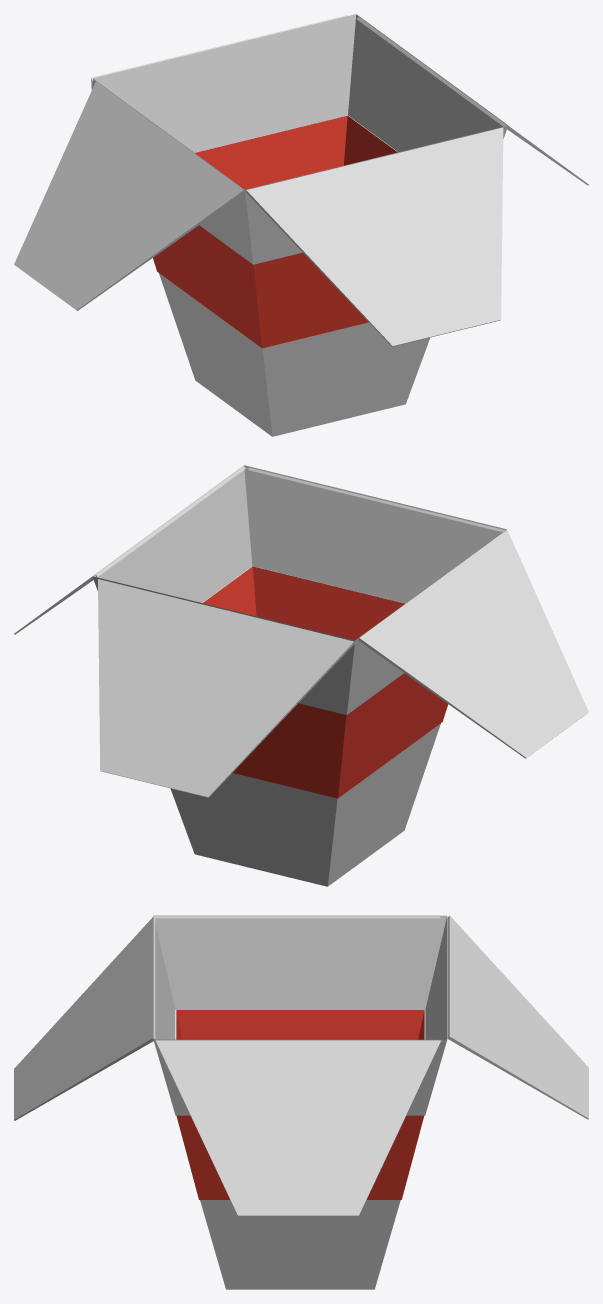
File: TakeoutBox.fbx
3 renders of one model, top to bottom at view 1: azimuth 30°, elevation 25°; view 2: azimuth 150°, elevation 25°; view 3: azimuth 270°, elevation 25°, orthographic. The views are drawn at different scales.
Visible parts, largest first — view 1: Cube, Cube.007, Cube.005, Cube.009, Cube.008; view 2: Cube, Cube.002, Cube.005, Cube.009, Cube.008, Cube.007; view 3: Cube, Cube.008, Cube.002, Cube.007, Cube.009, Cube.005.
Boxes of the visible parts, x1,y1,x2,y2 form: Cube: [93, 14, 508, 436]; Cube.007: [246, 127, 503, 346]; Cube.005: [14, 81, 245, 310]; Cube.009: [153, 115, 397, 348]; Cube.008: [357, 16, 588, 185]; Cube: [92, 465, 506, 886]; Cube.002: [98, 579, 354, 797]; Cube.005: [358, 530, 588, 758]; Cube.009: [203, 566, 448, 798]; Cube.008: [14, 466, 245, 634]; Cube.007: [248, 467, 504, 532]; Cube: [153, 915, 447, 1289]; Cube.008: [155, 1040, 441, 1216]; Cube.002: [447, 915, 588, 1119]; Cube.007: [14, 917, 155, 1120]; Cube.009: [176, 1010, 424, 1199]; Cube.005: [153, 915, 440, 918].
Size of the model in its own units: 439 by 238 by 441.
